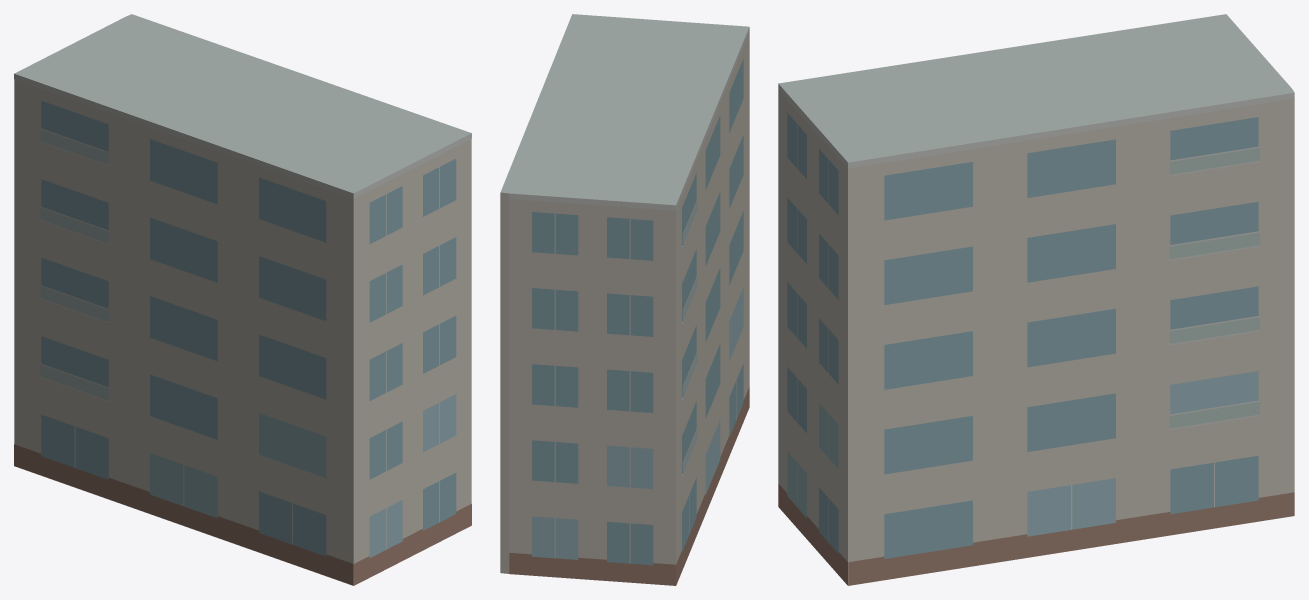
Rendered from survey-upis-32838254.glb.
3 views of the same model, side by side, from view 1: azimuth 30°, elevation 25°; view 2: azimuth 150°, elevation 25°; view 3: azimuth 270°, elevation 25° (orthographic). The views are drawn at different scales.
Parts seen in each view (by area): view 1: survey-upis-32838254.tmp; view 2: survey-upis-32838254.tmp; view 3: survey-upis-32838254.tmp.
Boxes of the visible parts, bbox=[...] form: survey-upis-32838254.tmp: bbox=[14, 14, 471, 585]; survey-upis-32838254.tmp: bbox=[500, 14, 749, 585]; survey-upis-32838254.tmp: bbox=[778, 14, 1294, 585].
Size of the model in its own units: 13.04 by 17.3 by 19.14.
